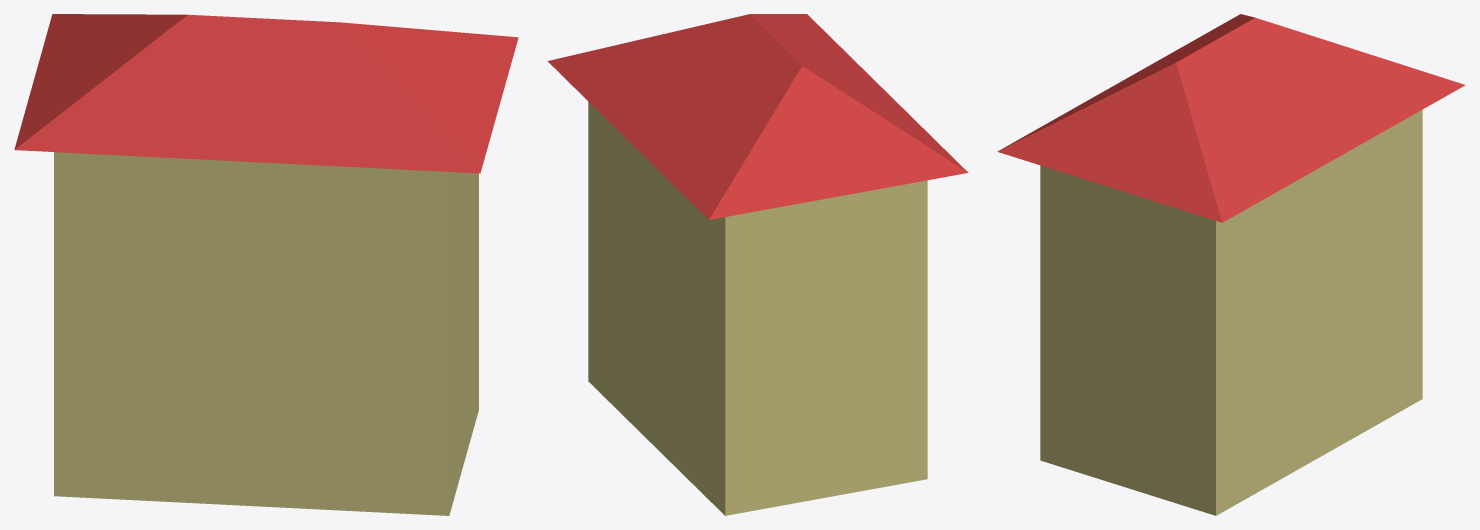
3 renders of one model, left to right at view 1: azimuth 30°, elevation 25°; view 2: azimuth 150°, elevation 25°; view 3: azimuth 270°, elevation 25°, orthographic. The views are drawn at different scales.
Parts seen in each view (by area): view 1: group_5, group_3, group_4; view 2: group_5, group_3, group_4; view 3: group_5, group_3, group_4.
Boxes of the visible parts, x1,y1,x2,y2 form: group_5: (54,152,478,515); group_3: (14,14,518,173); group_4: (14,14,480,172); group_5: (588,102,927,515); group_3: (588,14,968,219); group_4: (547,50,966,219); group_5: (1040,109,1422,515); group_3: (997,14,1465,222); group_4: (998,70,1464,222).
Bounding box in the file's own units: 8 × 7.58 × 6.87.
